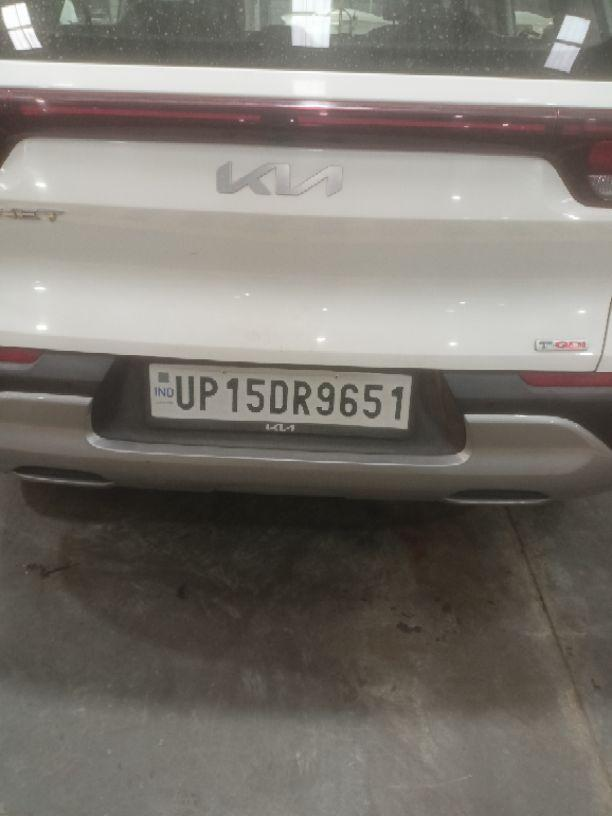license_plate: (144, 360, 414, 437)
